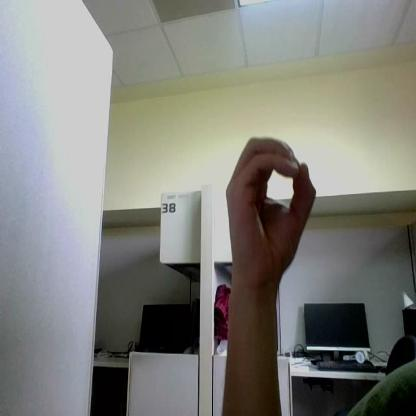O: (227, 137, 315, 280)
